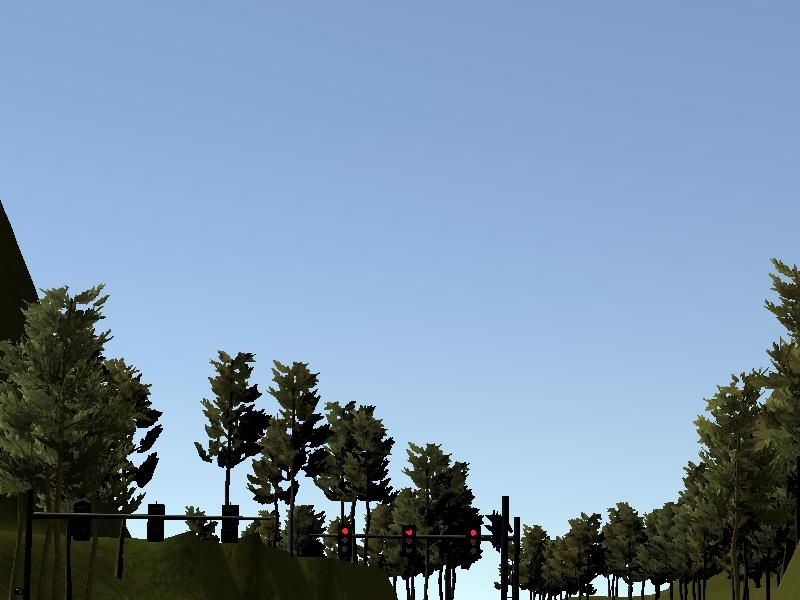traffic_light_red: (321, 522, 500, 560)
